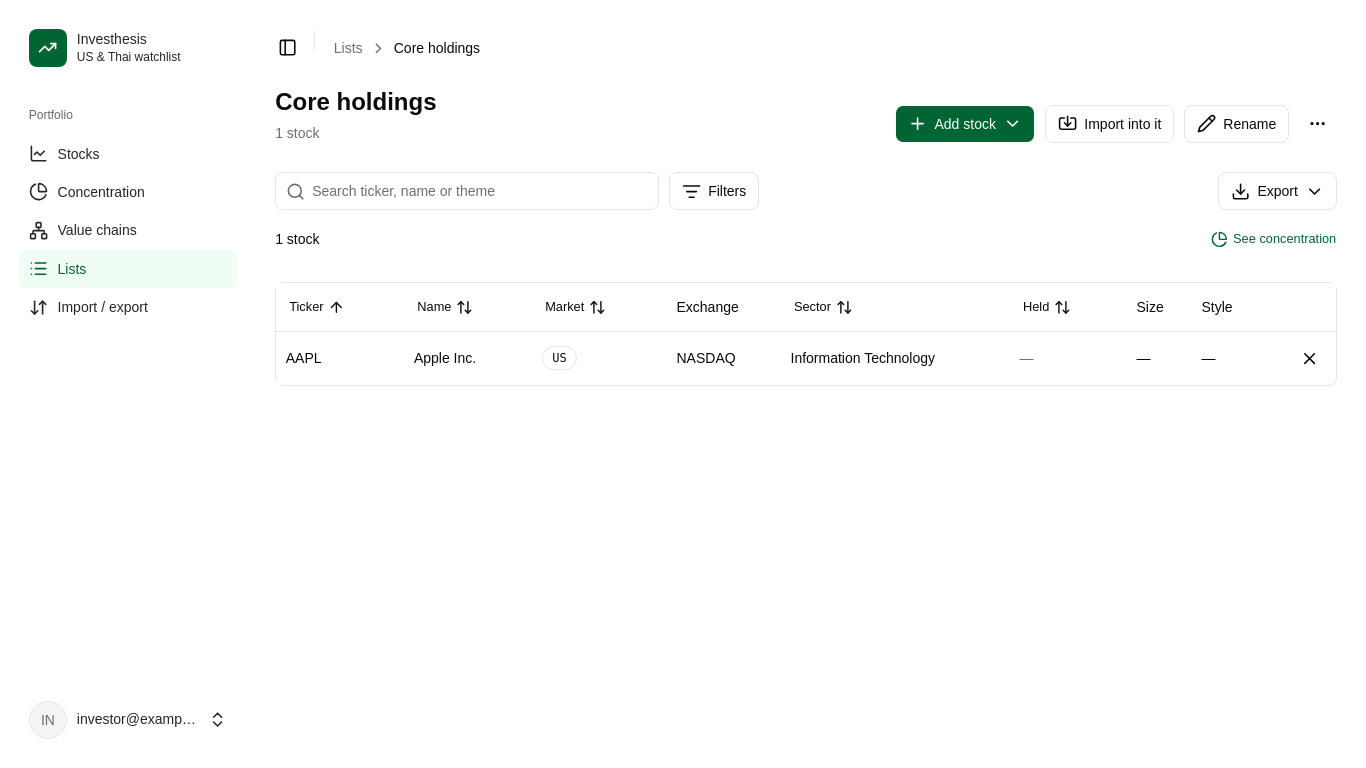
list detail: add stock › TC-C-155: says so when every saved stock is in the list, and links to /stocks/new with no stocks at all
Later steps or results of the test are not shown.
Click the button "Add stock" at (965, 124), box x1=895 y1=105 x2=1035 y2=143
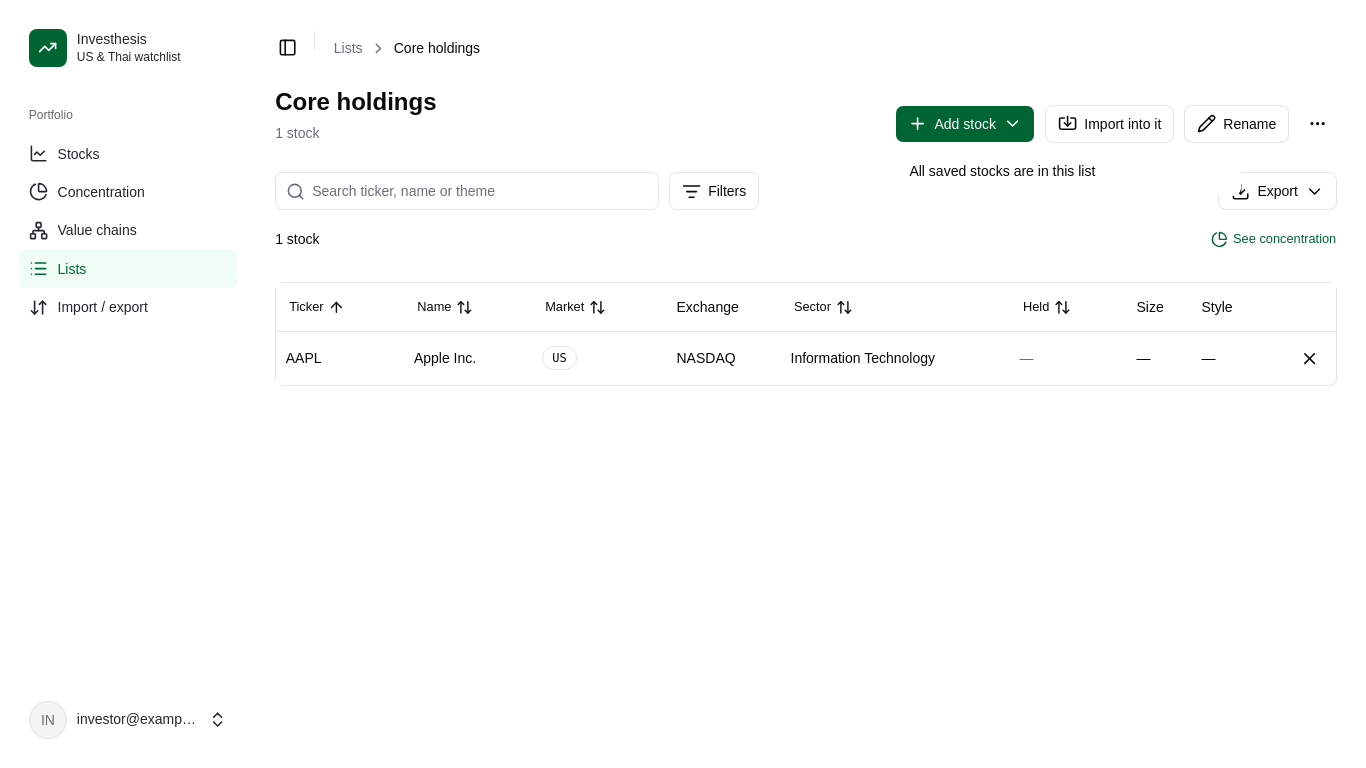
Check: the text "All saved stocks are in this list" is shown, box x1=909 y1=163 x2=1095 y2=179
